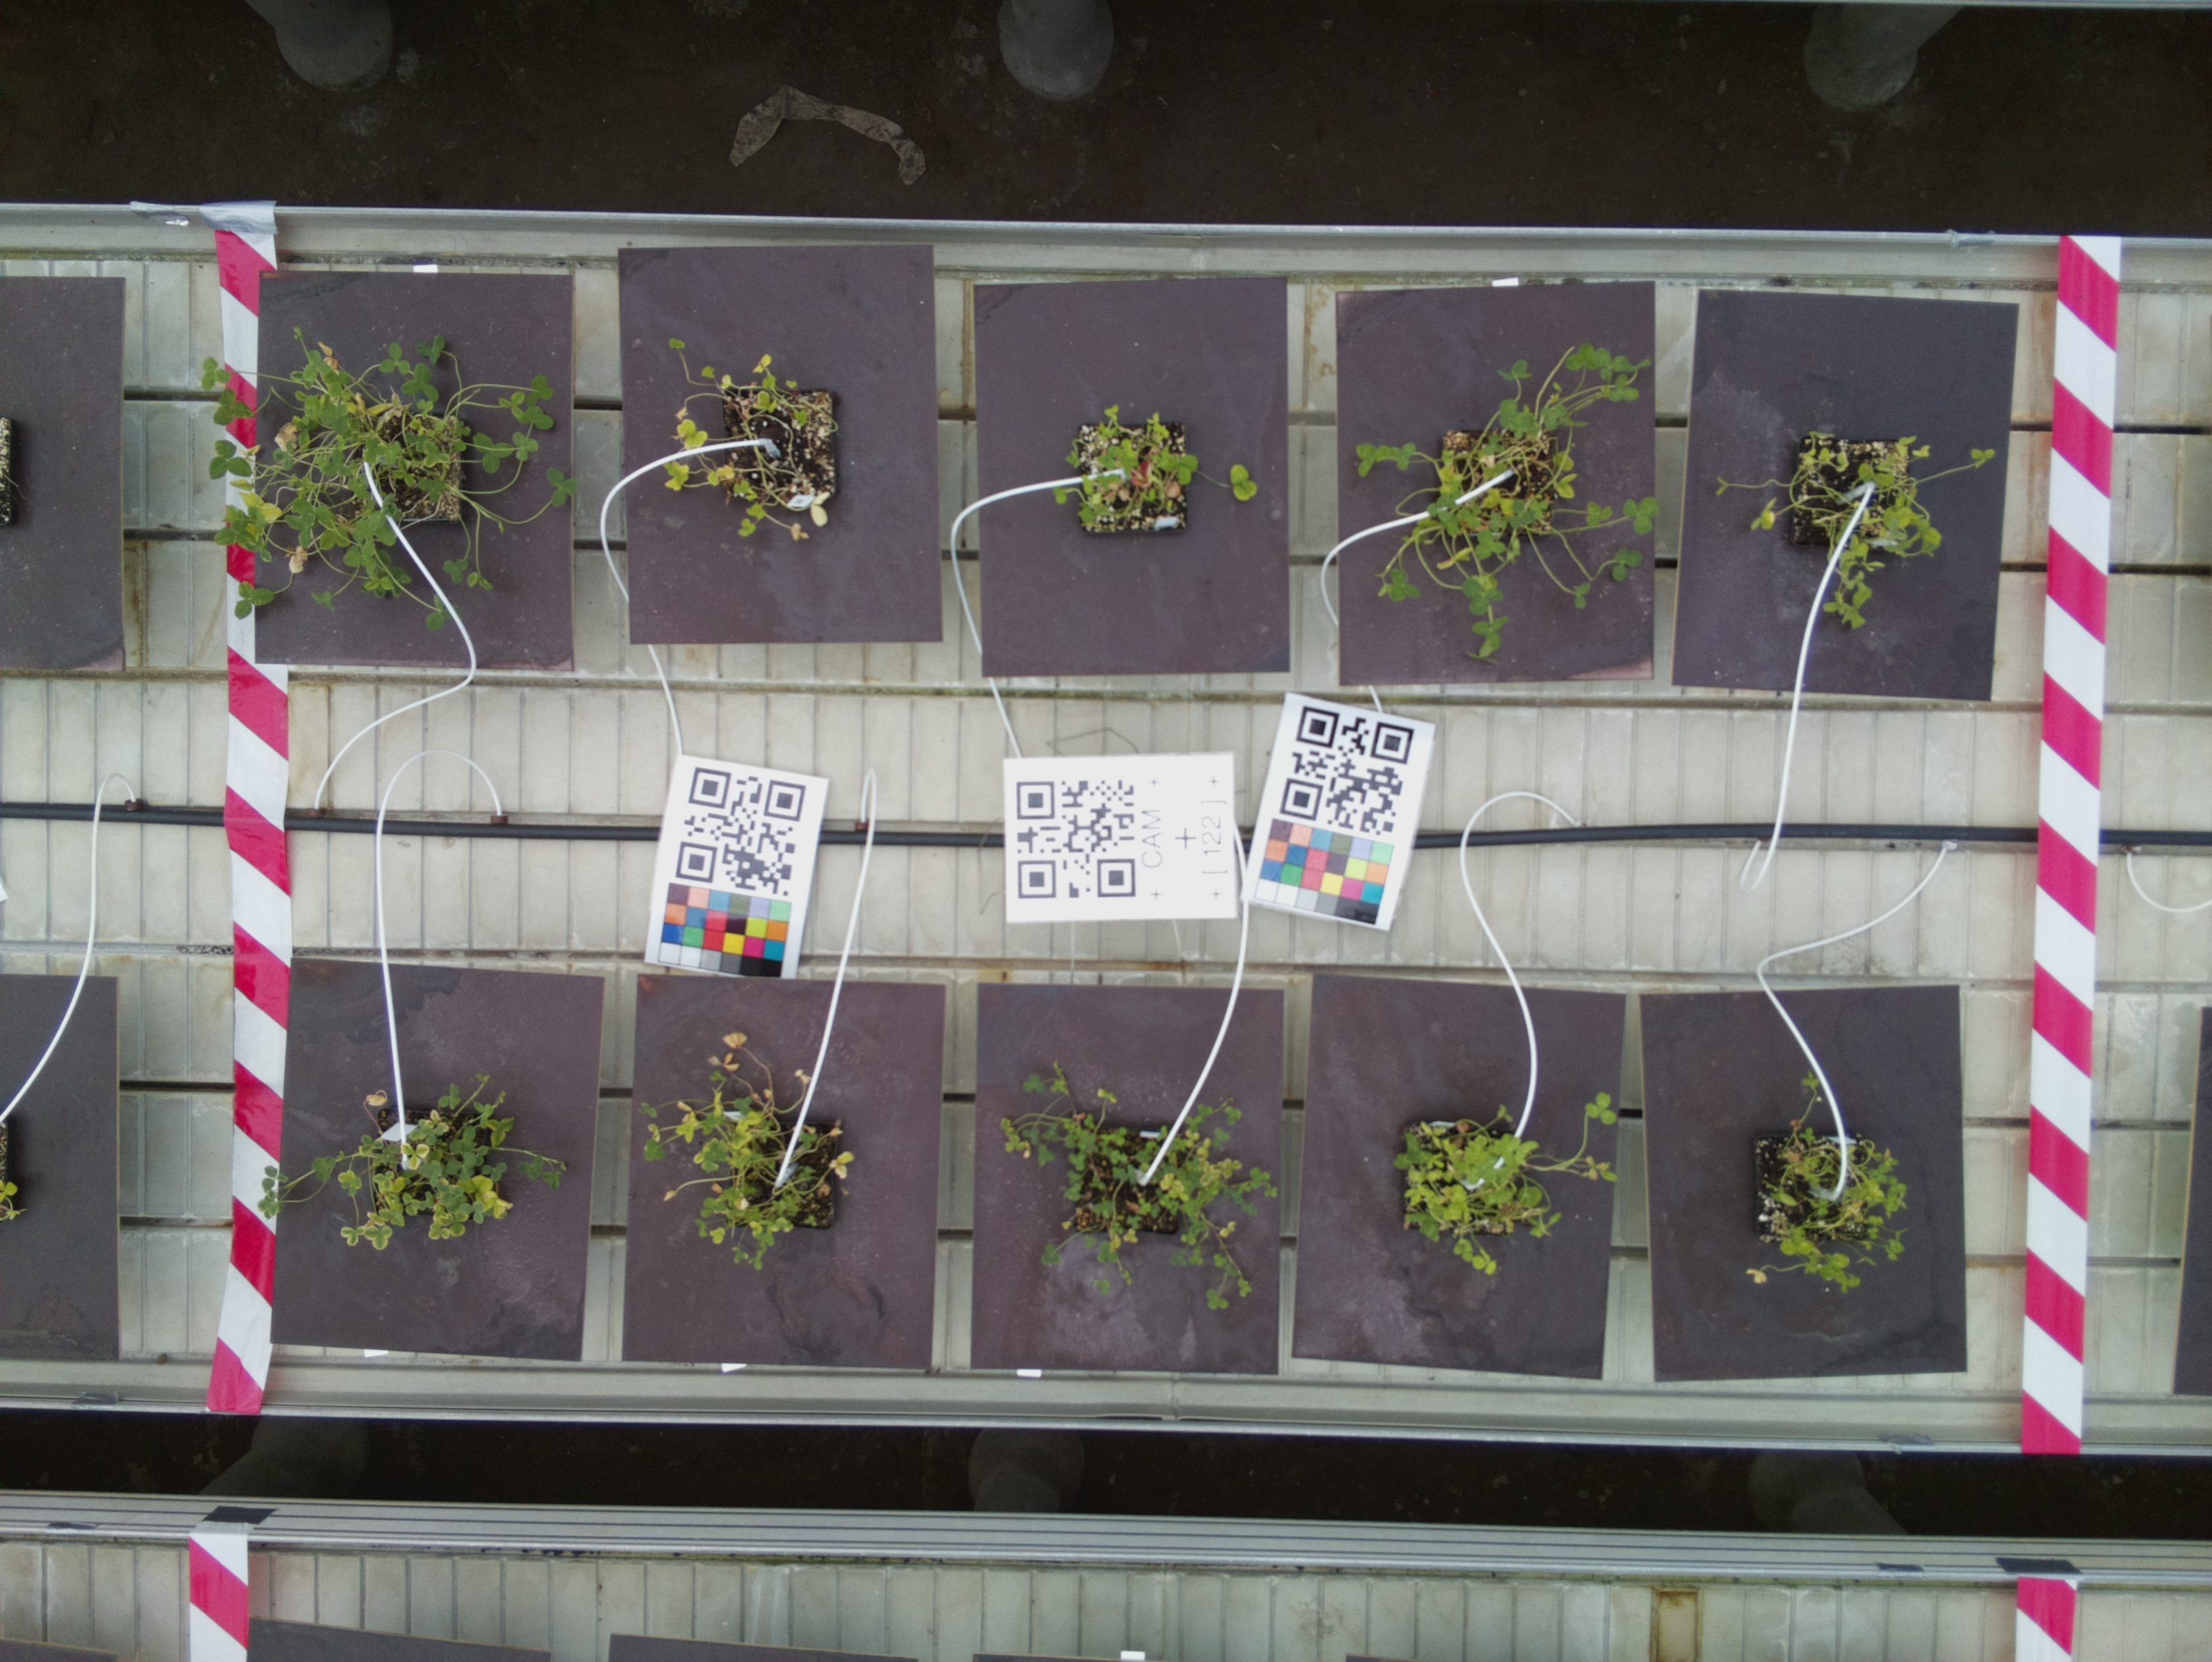POT: (1632, 990, 1985, 1390), (1688, 281, 2013, 709), (616, 243, 951, 646), (1330, 279, 1664, 683), (965, 286, 1306, 674), (257, 269, 576, 676), (1294, 983, 1636, 1353), (279, 958, 585, 1360), (978, 978, 1278, 1377), (632, 976, 934, 1369)
QRCODE: (999, 756, 1234, 920)
QRCOLOR: (1241, 691, 1435, 931), (646, 761, 826, 976)
